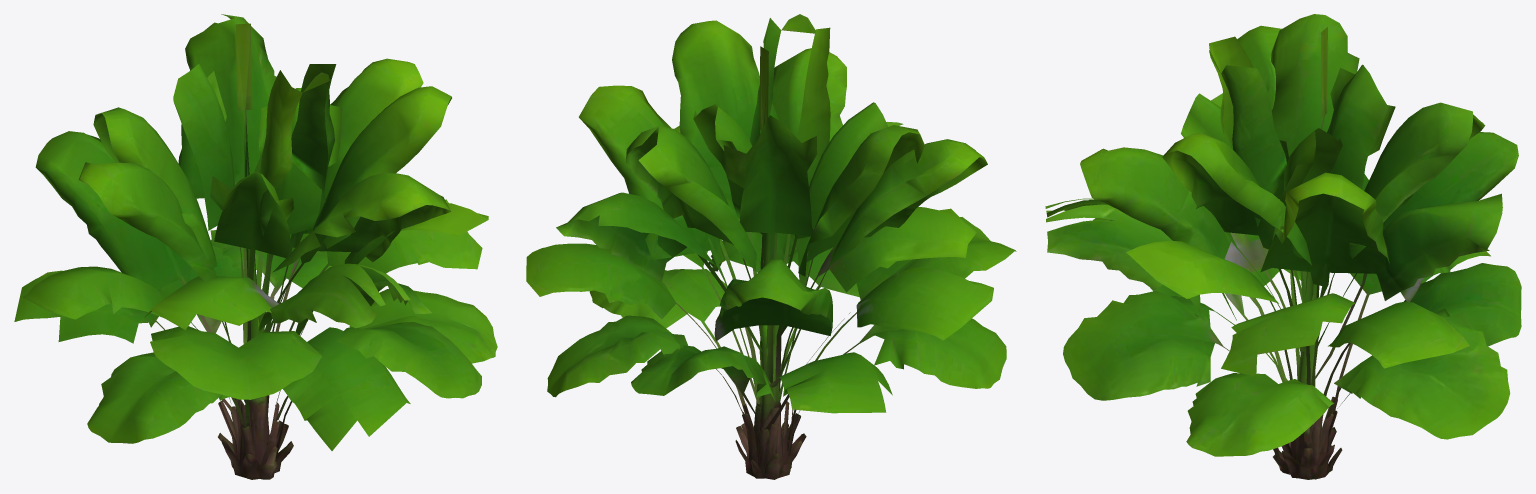
File: palmplant.full.glb
The picture shows the model from 3 angles, left to right: view 1: azimuth 30°, elevation 25°; view 2: azimuth 150°, elevation 25°; view 3: azimuth 270°, elevation 25°; orthographic projection. The views are drawn at different scales.
Parts seen in each view (by area): view 1: model; view 2: model; view 3: model.
Boxes of the visible parts, x1,y1,x2,y2 form: model: [14, 14, 497, 479]; model: [526, 14, 1016, 479]; model: [1045, 14, 1521, 479].
Size of the model in its own units: 0.9995 by 0.9868 by 0.9702.
Materials: 2 (2 with a texture image).
